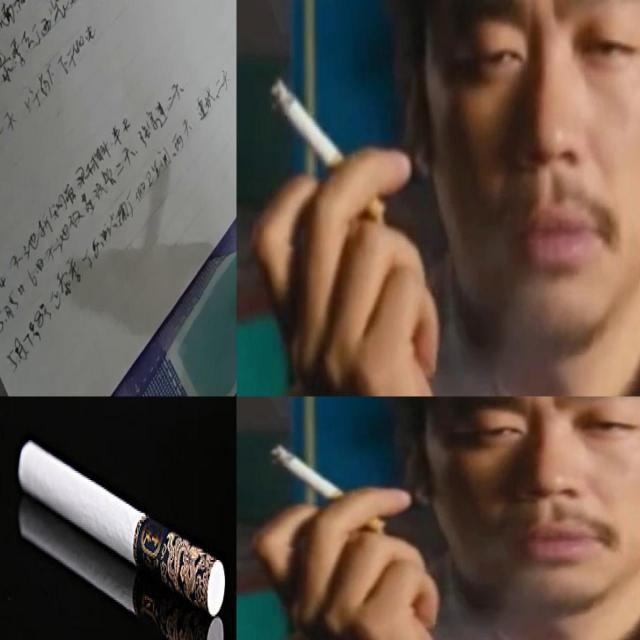cigarette: (16, 438, 226, 614), (18, 492, 224, 638), (270, 78, 386, 224), (270, 444, 386, 534)
